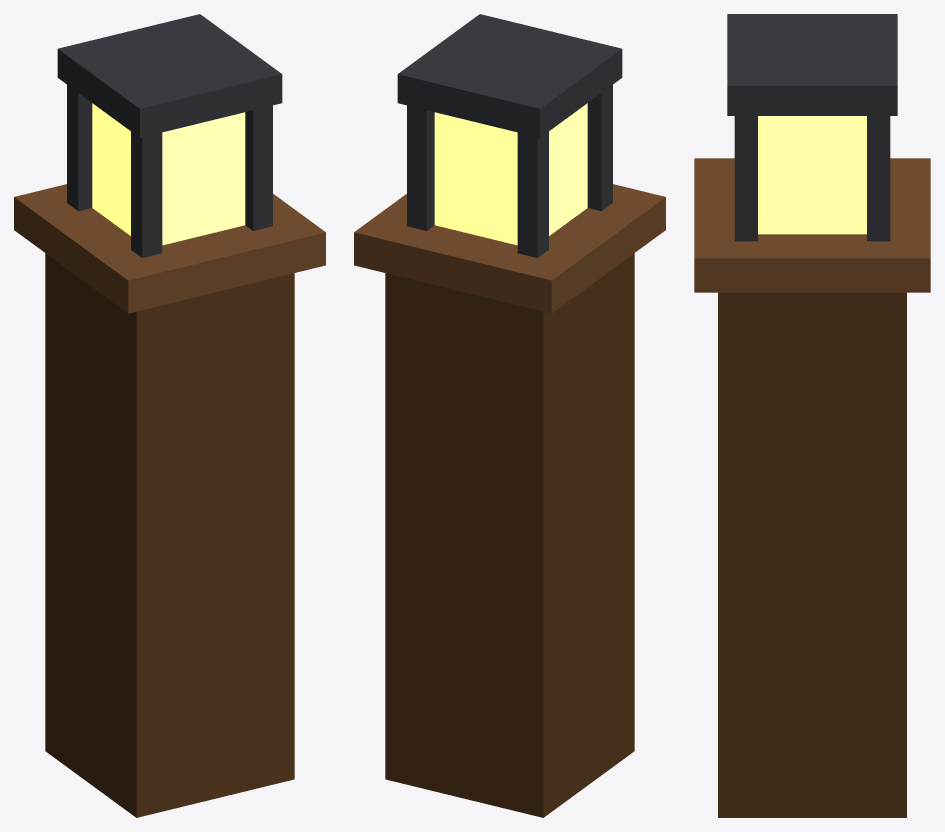
File: ncb-newel.glb
3 views of the same model, side by side, from view 1: azimuth 30°, elevation 25°; view 2: azimuth 150°, elevation 25°; view 3: azimuth 270°, elevation 25° (orthographic). The views are drawn at different scales.
Parts seen in each view (by area): view 1: box-prop; view 2: box-prop; view 3: box-prop.
Boxes of the visible parts, x1,y1,x2,y2 form: box-prop: [14, 14, 325, 817]; box-prop: [354, 14, 665, 817]; box-prop: [694, 14, 930, 817].
Bounding box in the file's own units: 0.5 × 1.7 × 0.5.
